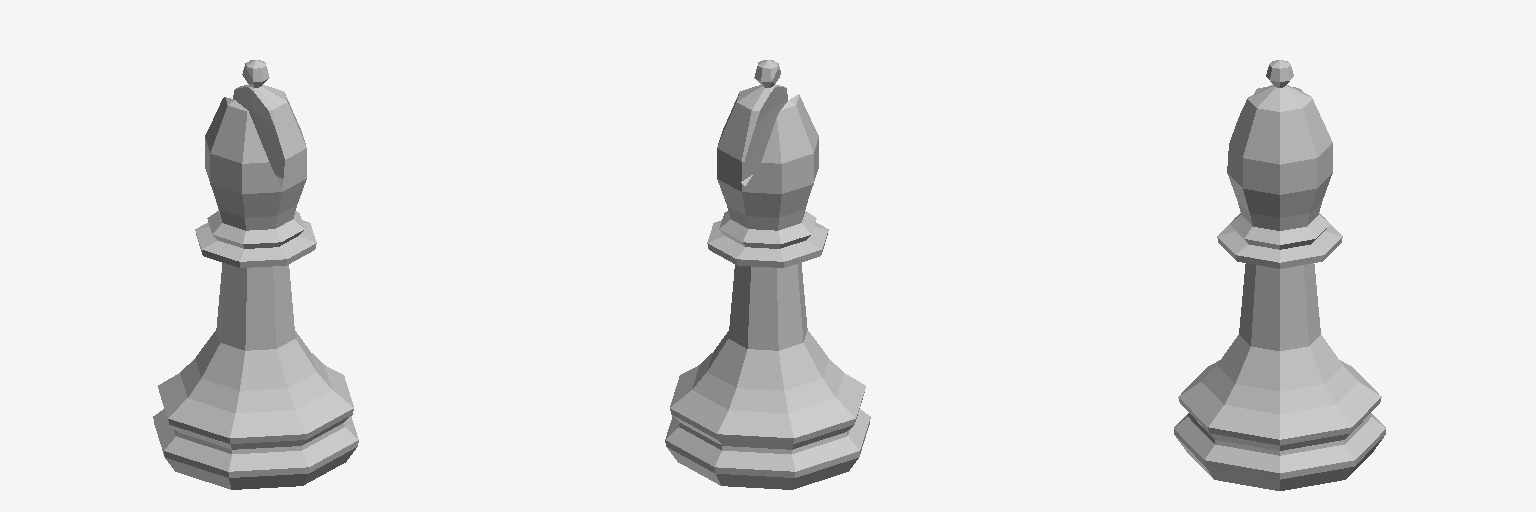
File: BishopMatGroups.obj
3 renders of one model, left to right at view 1: azimuth 30°, elevation 25°; view 2: azimuth 150°, elevation 25°; view 3: azimuth 270°, elevation 25°, orthographic.
Visible parts, largest first — view 1: Bishop_Cylinder_Material.001; view 2: Bishop_Cylinder_Material.001; view 3: Bishop_Cylinder_Material.001.
Boxes of the visible parts, <box> form: Bishop_Cylinder_Material.001: <box>153,60,358,489</box>; Bishop_Cylinder_Material.001: <box>665,60,870,489</box>; Bishop_Cylinder_Material.001: <box>1174,60,1385,490</box>.
Size of the model in its own units: 0.0373 by 0.0757 by 0.0373.